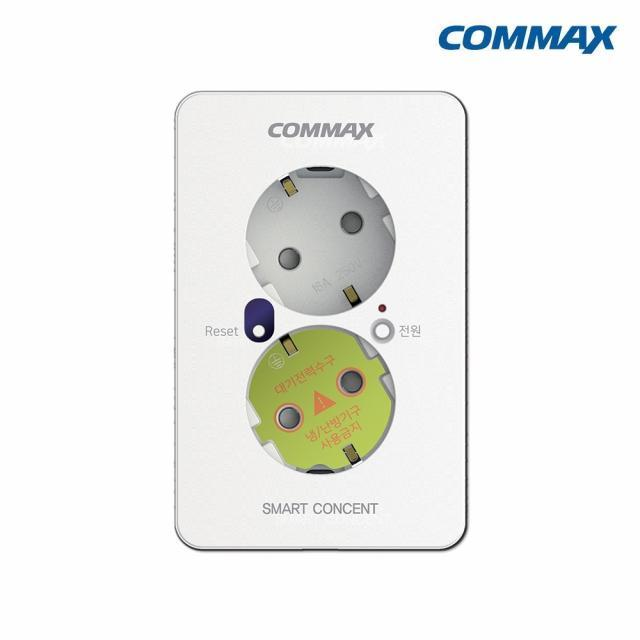typeb: (146, 80, 492, 564)
